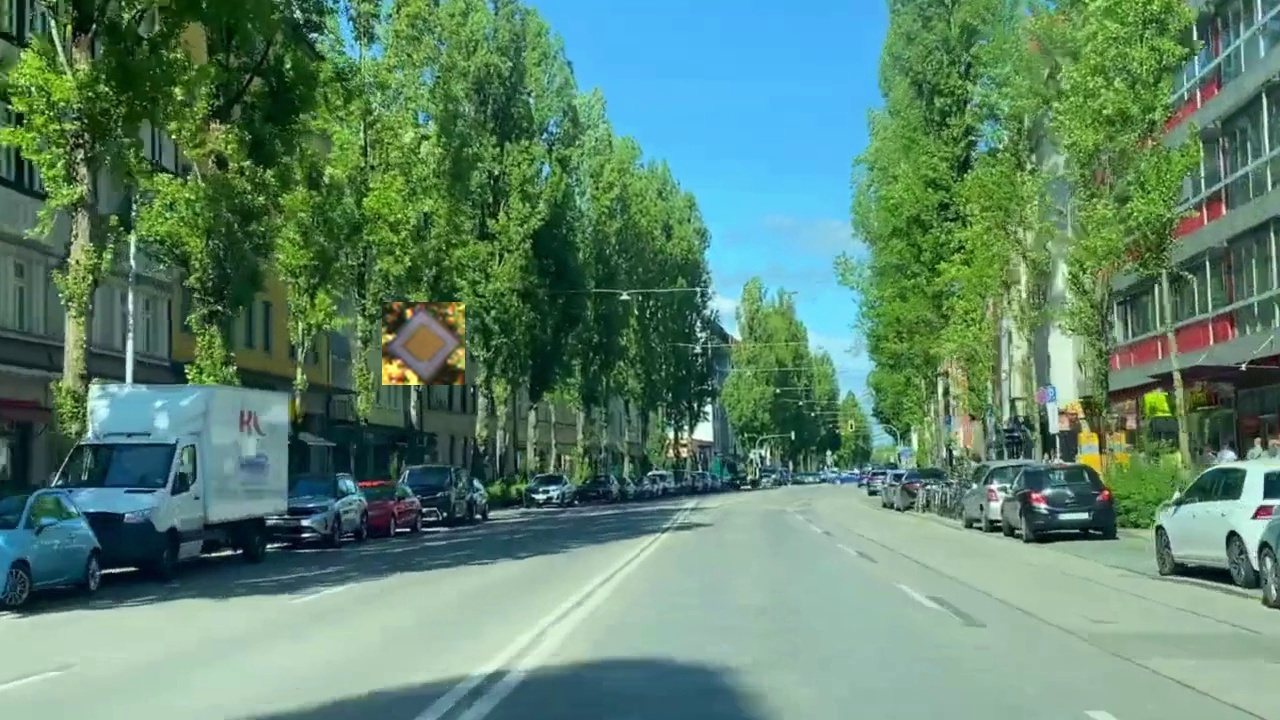Priority road: (382, 302, 465, 385)
